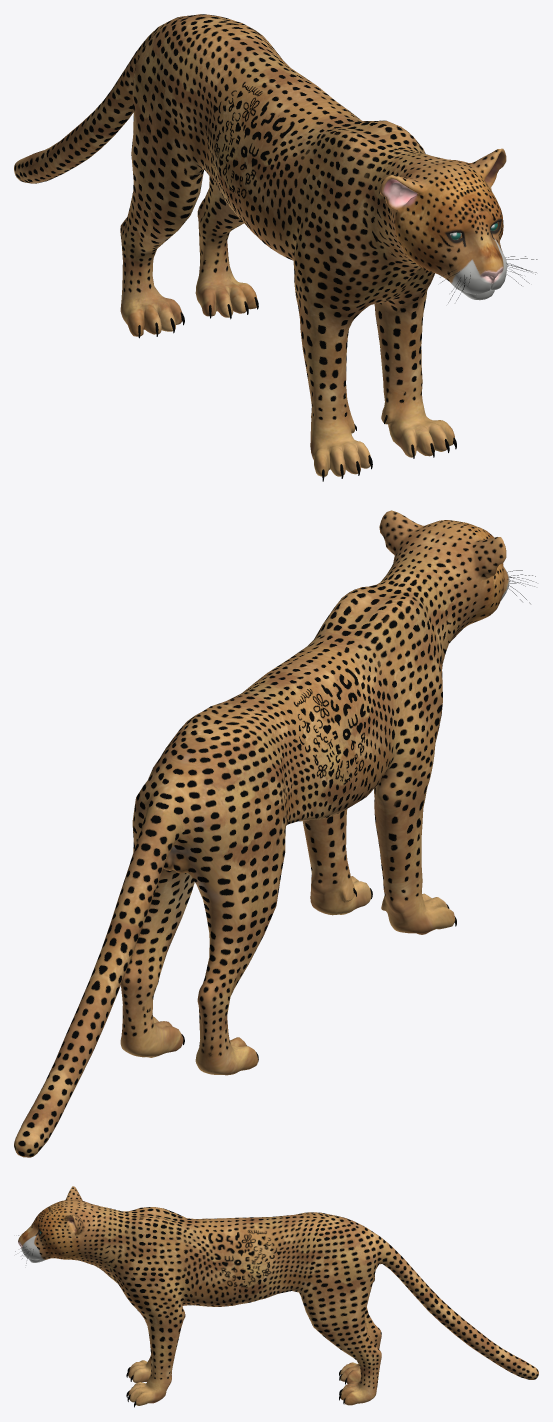
The model's file is Leo.fbx.
The picture shows the model from 3 angles, top to bottom: view 1: azimuth 30°, elevation 25°; view 2: azimuth 150°, elevation 25°; view 3: azimuth 270°, elevation 25°; orthographic projection. The views are drawn at different scales.
Parts seen in each view (by area): view 1: Body; view 2: Body; view 3: Body.
Part boxes in pixels (bbox=[...]): Body: bbox=[14, 14, 507, 476]; Body: bbox=[14, 510, 509, 1157]; Body: bbox=[18, 1186, 538, 1405].
Bounding box in the file's own units: 32.09 × 77.22 × 193.
